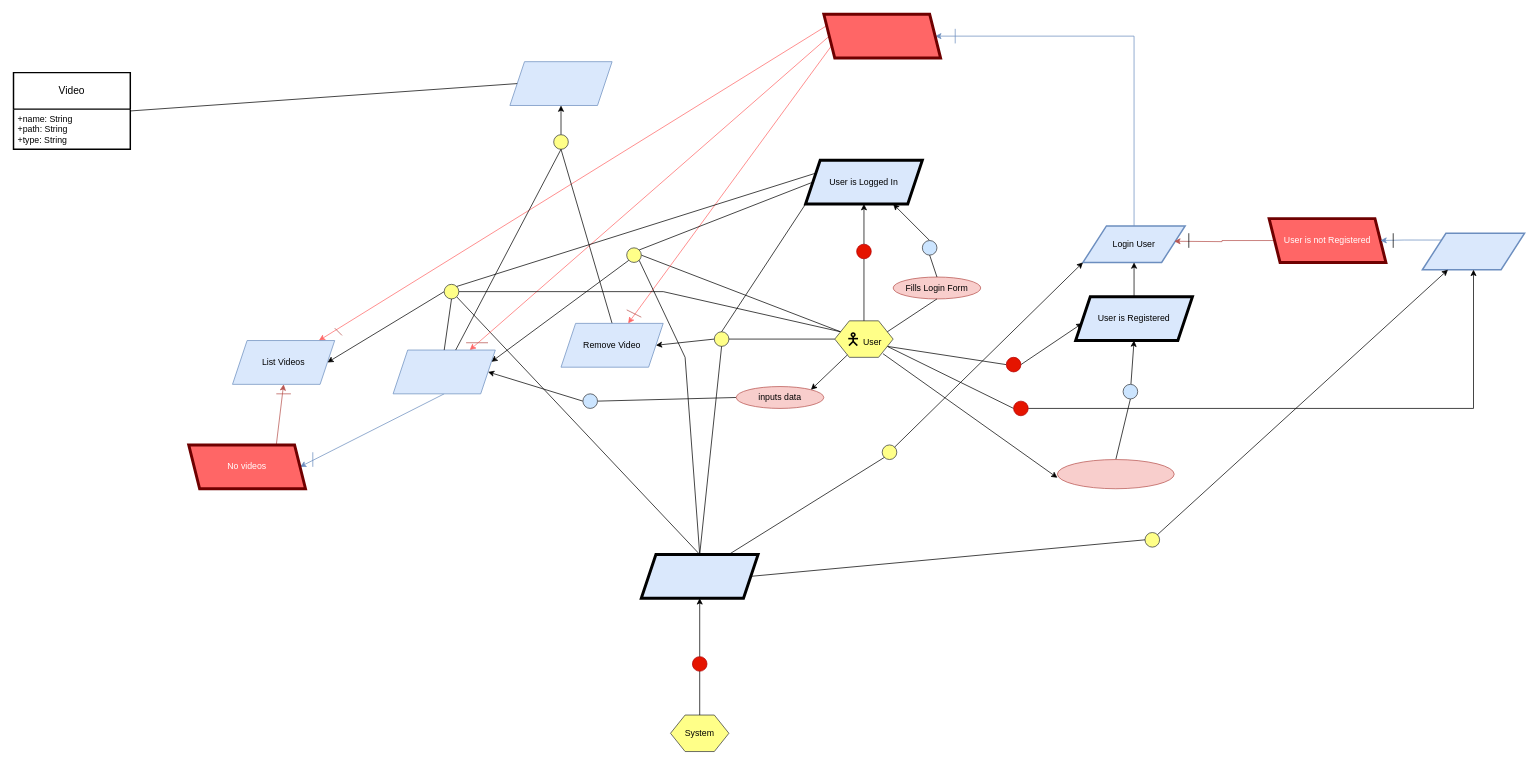
Image size: 1537x764. Some labels were removed from this diagram. Here are the shapes that lost their labels. From the top down, the centre of each, then its label:
At pixel 882 35: "User is not Logged In".
At pixel 560 83: "Manage Videos".
At pixel 1473 251: "Register User".
At pixel 443 371: "Create Video".
At pixel 1115 474: "Fills Registration Form".
At pixel 699 576: "System is Running".
